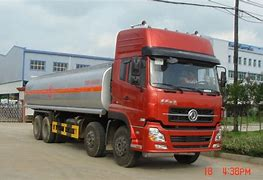oil truck: (21, 22, 225, 165)
